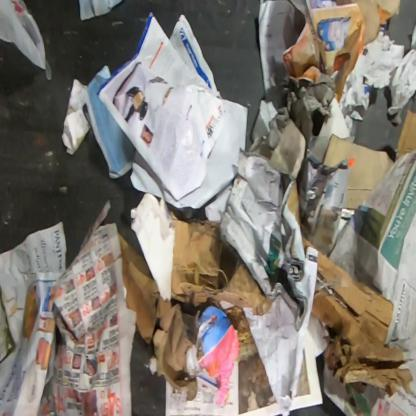cardboard: (311, 250, 413, 397), (169, 210, 273, 316), (322, 134, 395, 209), (395, 108, 415, 163)
soft_plastic: (0, 0, 53, 82)
